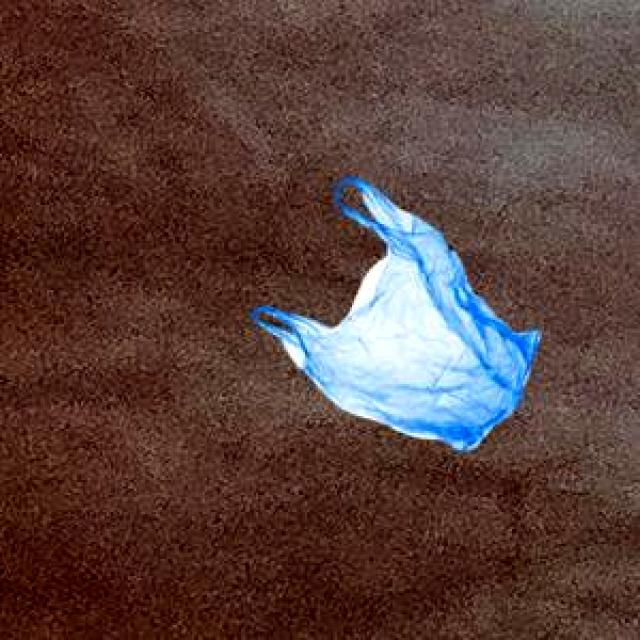Plastic_Bag: (250, 176, 536, 447)
